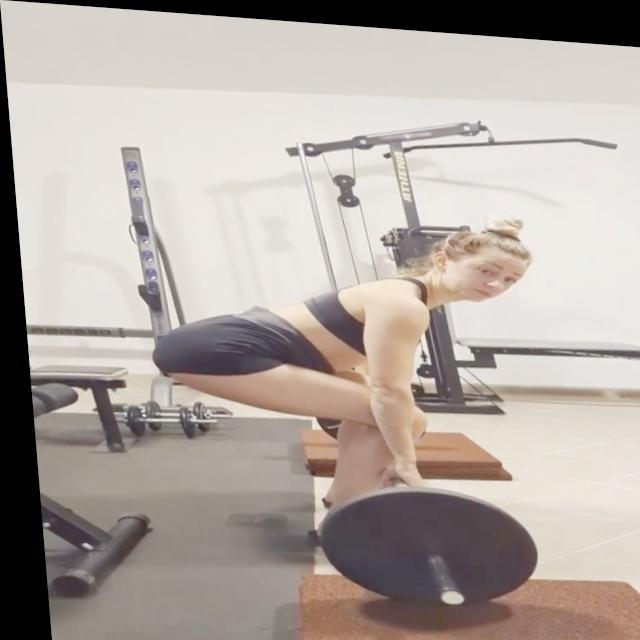barbell: (301, 468, 541, 619)
